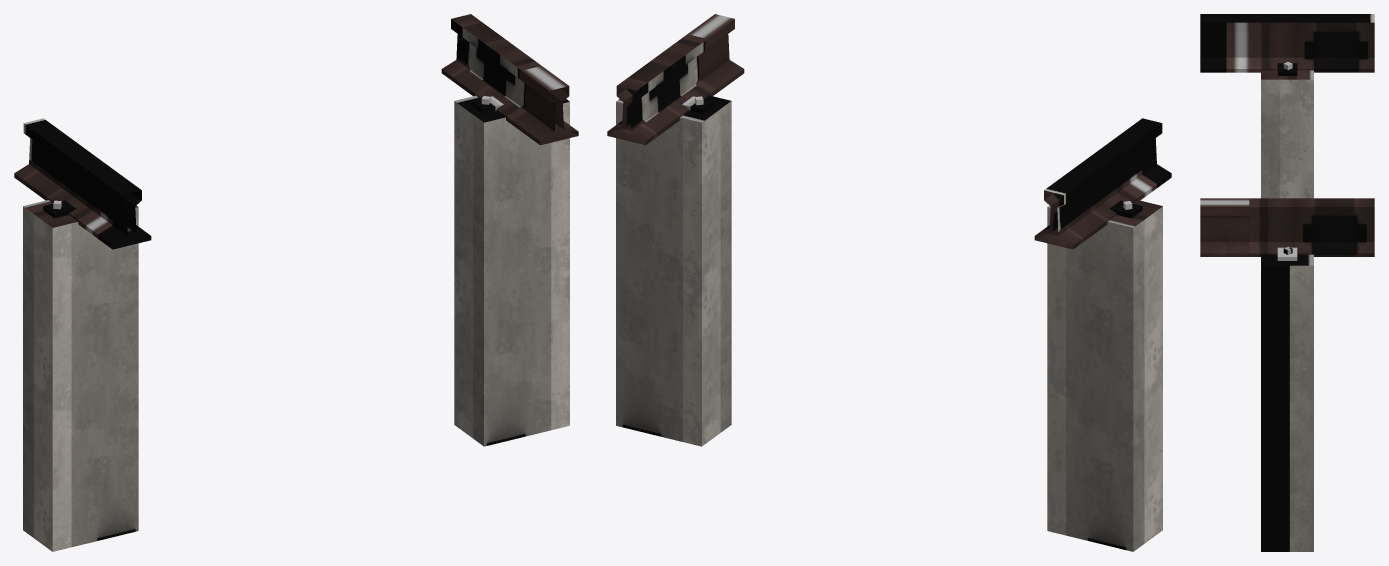
The model's file is rail_siding.obj.
3 renders of one model, left to right at view 1: azimuth 30°, elevation 25°; view 2: azimuth 150°, elevation 25°; view 3: azimuth 270°, elevation 25°, orthographic. The views are drawn at different scales.
Size of the model in its own units: 1.82 by 1.26 by 0.6.
Materials: 1 (1 with a texture image).
